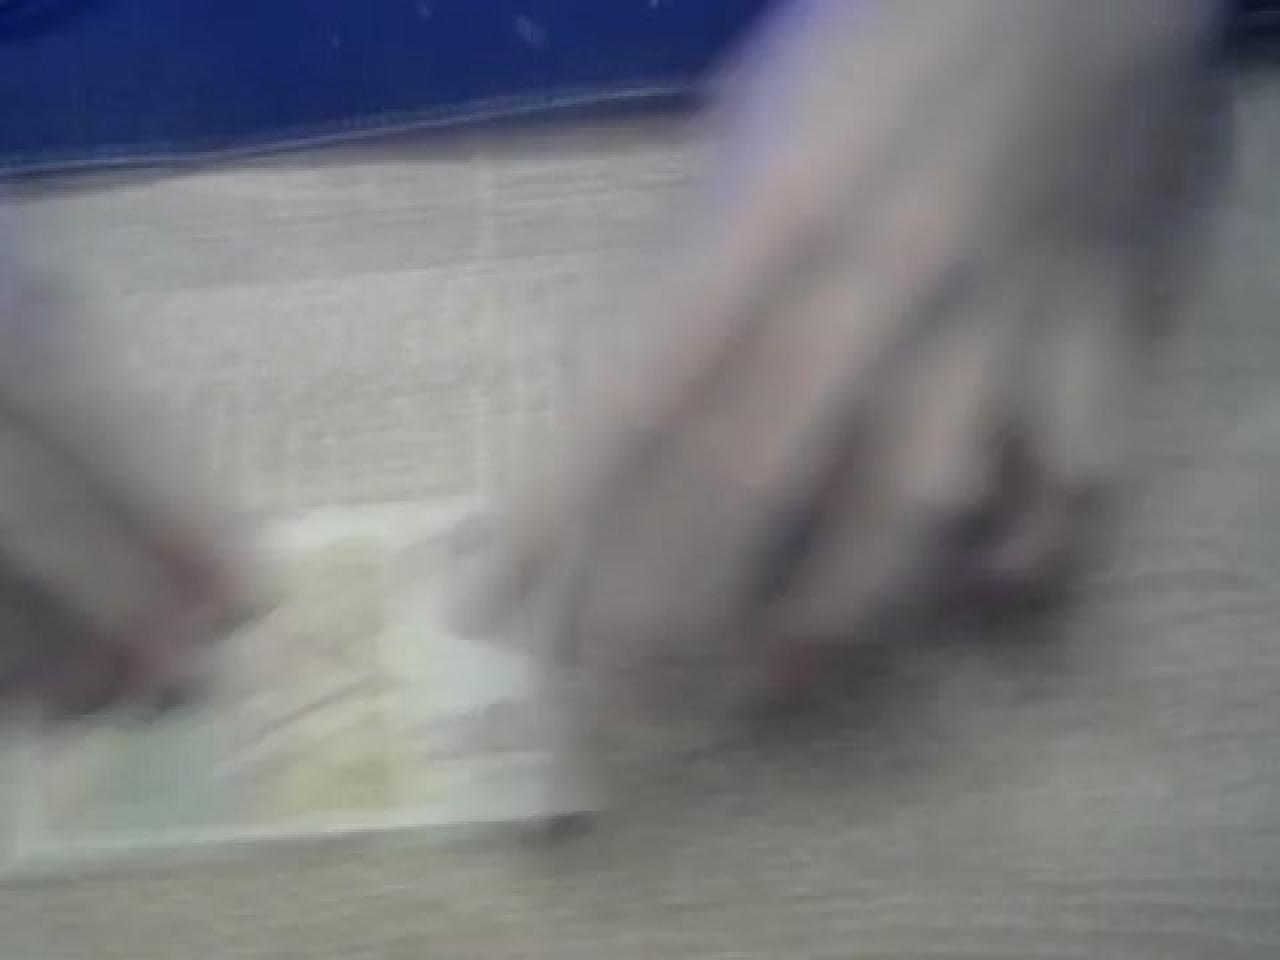10leva: (0, 115, 693, 949)
